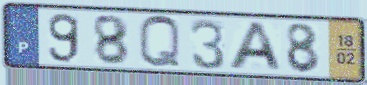3: (188, 17, 227, 72)
8: (91, 13, 131, 67), (284, 21, 323, 75)
9: (45, 11, 81, 64)
A: (225, 21, 285, 73)
Q: (136, 13, 183, 70)
